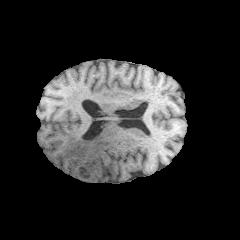glioma: (63, 135, 119, 180)
